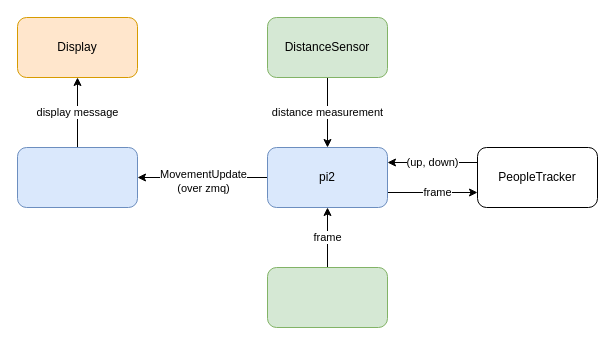
The diagram is 615 pixels wide and 345 high, and some of its shapes have lost their labels. The centre of each missing label's shape, as x and y in pixels:
CameraSensor: point 327,297
pi1: point 77,177
